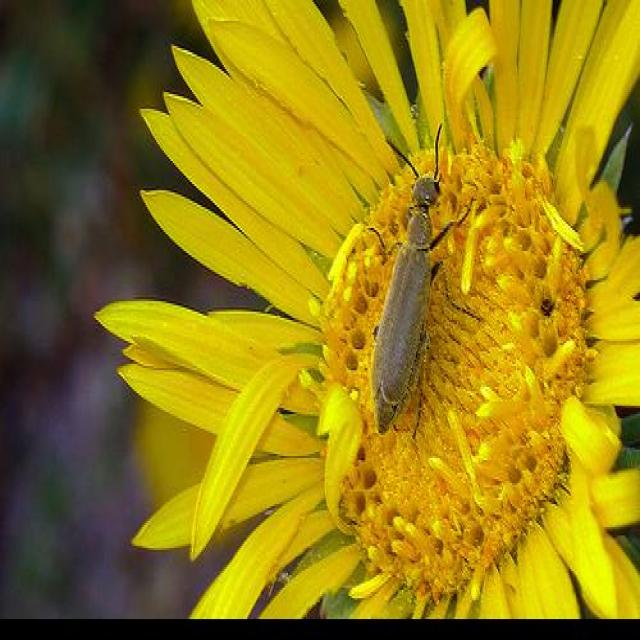BlisterBeetle-Adult-: (362, 112, 480, 437)
